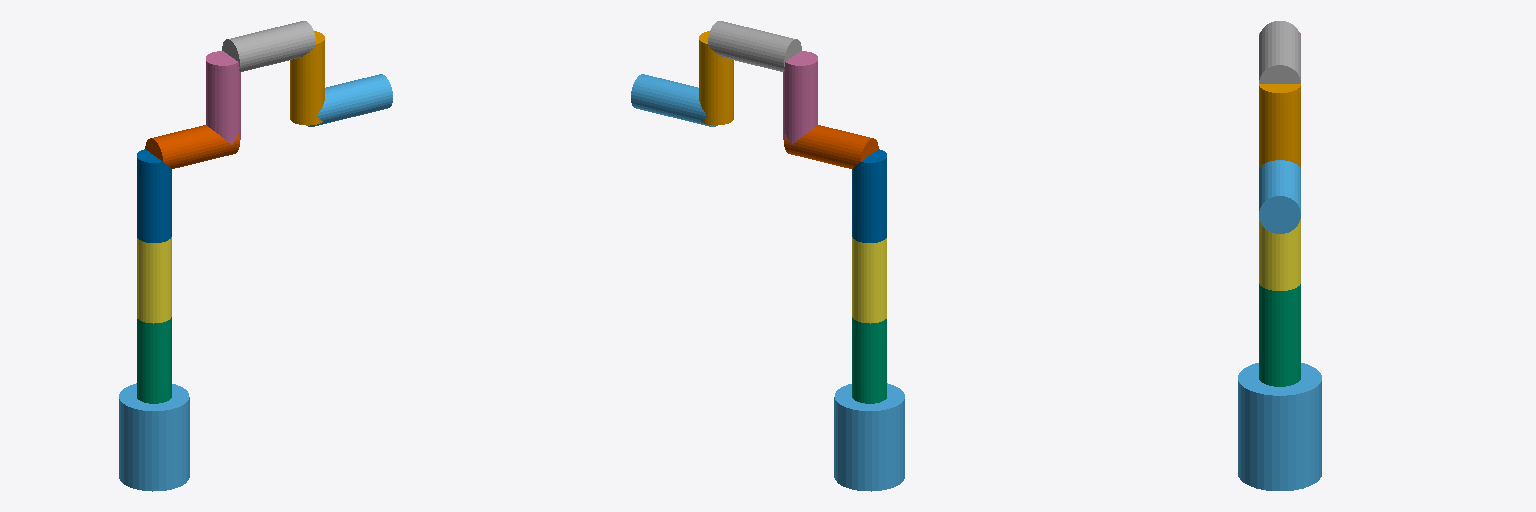
The robot description file, URDF, robot "arm":
<?xml version="1.0"?>
<robot name="arm">
    <link name = "axis">
    <visual>
        <origin xyz="0 0 0" rpy="0 0 0" />
    </visual>
    </link>
    
    <link name="base_link">
    <visual>
        <origin xyz="0 0 0.25" rpy="0 0 0" />
        <geometry>
        <cylinder radius="0.2" length=".5" />
        </geometry>
        <material name="gray" />
    </visual>
    </link>

  <joint name="axis_to_base" type="fixed">
    <parent link="axis"/>
    <child link="base_link"/>
  </joint>

  <link name="link1">
    <visual>
        <origin xyz="0 0 0.25" rpy="0 0 0" />
        <geometry>
        <cylinder radius="0.1" length=".5" />
        </geometry>
        <material name="gray" />
    </visual>
  </link>

   <joint name="base_to_link1" type="revolute">
   <axis xyz="0 0 1"/>
   <origin xyz="0 0 0.5" rpy="0 0 0"/>
   <limit effort="10" velocity="1" lower="-3.14" upper="3.14"/>
    <parent link="base_link"/>
    <child link="link1"/>
  </joint>

  <link name="link2">
    <visual>
        <origin xyz="0 0 0.25" rpy="0 0 0" />
        <geometry>
        <cylinder radius="0.1" length=".5" />
        </geometry>
        <material name="gray" />
    </visual>
  </link>

   <joint name="link1_to_link2" type="revolute">
   <axis xyz="0 1 0"/>
   <origin xyz="0 0 0.5" rpy="0 0 0"/>
   <limit effort="10" velocity="1" lower="-1.57" upper="1.57"/>
    <parent link="link1"/>
    <child link="link2"/>
  </joint>


  <link name="link3">
    <visual>
        <geometry>
        <cylinder radius="0.1" length=".5" />
        </geometry>
        <origin xyz="0 0 0.25" rpy="0 0 0" />
        <material name="gray" />
    </visual>
  </link>

  <joint name="link2_to_link3" type="revolute">
    <axis xyz="0 1 0"/>
    <origin xyz="0 0 0.5" />
     <limit effort="10" velocity="1" lower="-1.57" upper="1.57"/>
    <parent link="link2"/>
    <child link="link3"/>
  </joint>

  <link name="link4">
    <visual>
        <geometry>
        <cylinder radius="0.1" length=".5" />
        </geometry>
        <origin xyz="0.25 0 0" rpy="0 1.57 0" />
        <material name="gray" />
    </visual>
  </link>

  <joint name="link3_to_link4" type="revolute">
    <axis xyz="1 0 0"/>
    <origin xyz="0 0 0.5" />
    <limit effort="10" velocity="1" lower="-3.14" upper="3.14"/>
    <parent link="link3"/>
    <child link="link4"/>
  </joint>


  <link name="link5">
    <visual>
        <geometry>
        <cylinder radius="0.1" length=".5" />
        </geometry>
        <origin xyz="-0.05 0 0.25" rpy="0 0 0" />
        <material name="gray" />
    </visual>
  </link>

  <joint name="link4_to_link5" type="revolute">
    <axis xyz = "0 0 1"/>
    <origin xyz="0.5 0 0" />
    <limit effort="10" velocity="1" lower="-1.57" upper="1.57"/>
    <parent link="link4"/>
    <child link="link5"/>
  </joint>


  <link name="l5_6_connector1">
    <visual>
        <geometry>
        <cylinder radius="0.1" length=".5" />
        </geometry>
        <origin xyz="0.25 0 0" rpy="0 1.57 0" />
        <material name="gray" />
    </visual>
  </link>

  <joint name="link5_to_connector1" type="fixed">
    <origin xyz="0 0 0.5"/>
    <parent link="link5"/>
    <child link="l5_6_connector1"/>
  </joint>

  
  <link name="l5_6_connector2">
    <visual>
        <geometry>
        <cylinder radius="0.1" length=".5" />
        </geometry>
        <origin xyz="0 0 -0.25" rpy="0 0 0" />
        <material name="gray" />
    </visual>
  </link>

  <joint name="connector1_to_connector2" type="fixed">
    <origin xyz="0.5 0 0"/>
    <parent link="l5_6_connector1"/>
    <child link="l5_6_connector2"/>
  </joint>

  <link name="link6">
    <visual>
        <geometry>
        <cylinder radius="0.1" length=".5" />
        </geometry>
        <origin xyz="0.25 0 0.05" rpy="0 1.57 0" />
        <material name="gray" />
    </visual>
  </link>

  <joint name="connector2_to_link6" type="revolute">
    <axis xyz = "0 1 0"/>
    <origin xyz="0 0 -0.5"/>
    <limit effort="10" velocity="1" lower="-1.57" upper="1.57"/>
    <parent link="l5_6_connector2"/>
    <child link="link6"/>
  </joint>

  <link name="end_effector">
    <visual>
    </visual>
  </link>

  <joint name="link6_to_end_eff" type ="fixed">
    <origin xyz = "0.5 0 0"/>
   <parent link="link6"/>
    <child link="end_effector"/>
  </joint>
</robot>

--- Facts derived from the render (not from the file) ---
3 views of the same robot in one strip: view 1: azimuth 30°, elevation 25°; view 2: azimuth 150°, elevation 25°; view 3: azimuth 270°, elevation 25° (orthographic).
Model arm with 11 links and 10 joints (6 revolute, 4 fixed), rooted at axis, posed every joint at zero.
Links seen in each view (by area): view 1: base_link, link3, l5_6_connector1, link5, link1, link2, l5_6_connector2, link4, link6; view 2: base_link, link3, l5_6_connector1, link5, link1, link2, l5_6_connector2, link4, link6; view 3: base_link, link1, l5_6_connector2, link6, l5_6_connector1, link2.
Link boxes in pixels (left/top/right/bottom): base_link: left=119, top=383, right=189, bottom=491; link3: left=137, top=149, right=171, bottom=242; l5_6_connector1: left=222, top=21, right=315, bottom=71; link5: left=206, top=51, right=240, bottom=144; link1: left=137, top=317, right=171, bottom=403; link2: left=137, top=237, right=171, bottom=323; l5_6_connector2: left=290, top=31, right=324, bottom=125; link4: left=145, top=125, right=239, bottom=168; link6: left=308, top=74, right=392, bottom=126; base_link: left=834, top=383, right=904, bottom=491; link3: left=852, top=149, right=886, bottom=242; l5_6_connector1: left=708, top=21, right=801, bottom=71; link5: left=783, top=51, right=817, bottom=144; link1: left=852, top=317, right=886, bottom=403; link2: left=852, top=237, right=886, bottom=323; l5_6_connector2: left=699, top=31, right=733, bottom=125; link4: left=784, top=125, right=878, bottom=168; link6: left=631, top=74, right=715, bottom=126; base_link: left=1238, top=363, right=1321, bottom=490; link1: left=1259, top=284, right=1300, bottom=386; l5_6_connector2: left=1259, top=84, right=1300, bottom=167; link6: left=1259, top=160, right=1300, bottom=233; l5_6_connector1: left=1259, top=21, right=1300, bottom=83; link2: left=1259, top=219, right=1300, bottom=290.
Size in the robot's own frame: 1.7 by 0.4 by 2.6 metres.
Geometry: primitives only (box / cylinder / sphere), no mesh files.